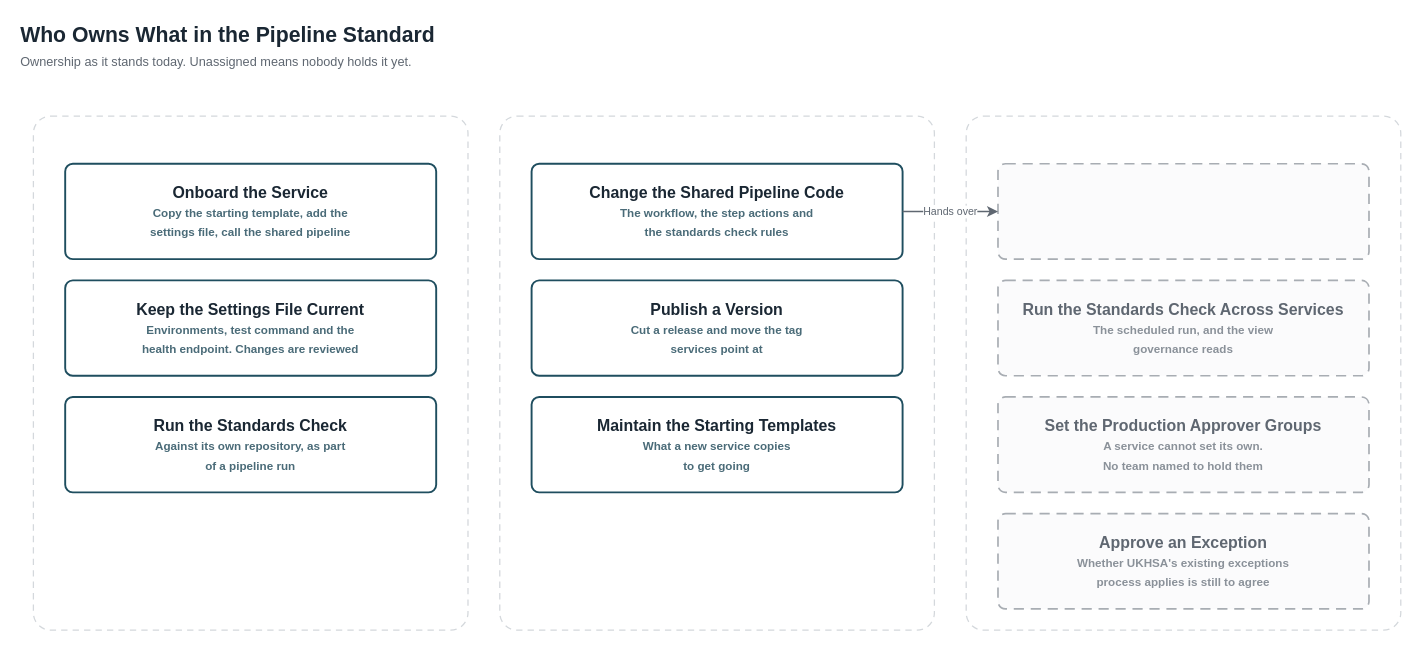
The diagram is 1425 pixels wide and 649 high, and some of its shapes have lost their labels. Each missing label, with the box of its shape:
DevOps Pipeline Project Team, Until March 2027: (499, 115, 934, 630)
Own the Shared Pipeline Code The repository, the releases and the support load: (997, 162, 1369, 259)
Service Team: (32, 115, 468, 630)
Unassigned: (965, 115, 1401, 630)
